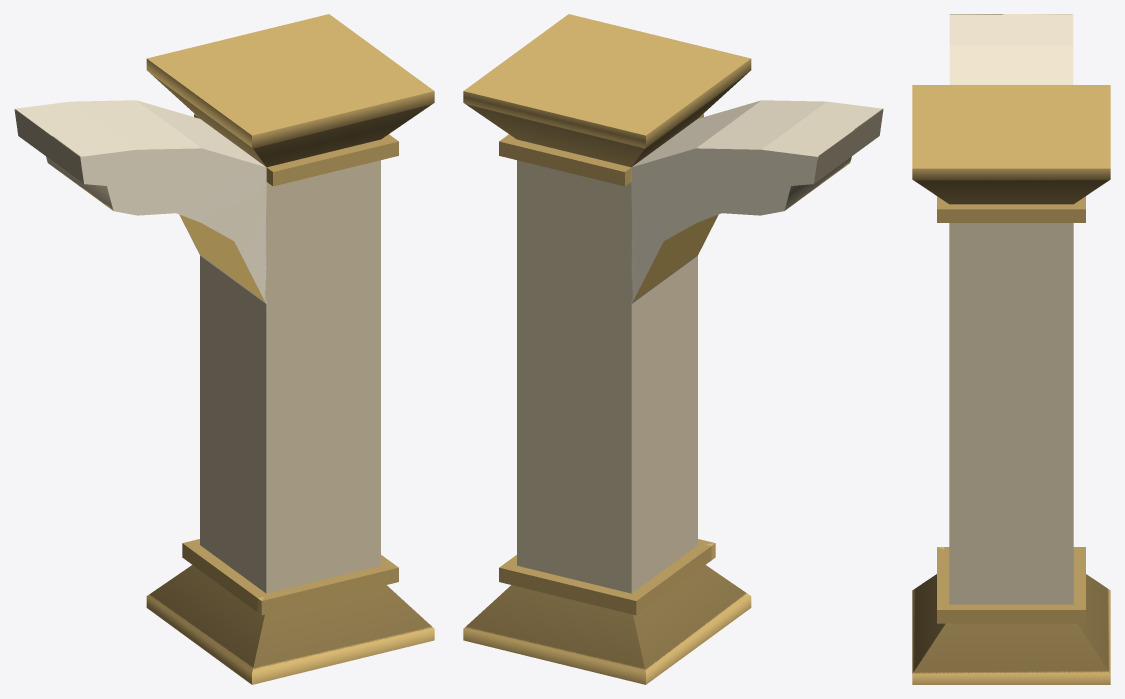
Rendered from ruinedArch.fbx.
3 views of the same model, side by side, from view 1: azimuth 30°, elevation 25°; view 2: azimuth 150°, elevation 25°; view 3: azimuth 270°, elevation 25° (orthographic). The views are drawn at different scales.
Visible parts, largest first — view 1: pPipe3; view 2: pPipe3; view 3: pPipe3.
Boxes of the visible parts, box(x1,y1,x2,y2) form: pPipe3: box(14, 14, 434, 684); pPipe3: box(463, 14, 883, 684); pPipe3: box(912, 14, 1110, 684).
Bounding box in the file's own units: 724 × 1138 × 395.
Materials: 1 (1 with a texture image).
